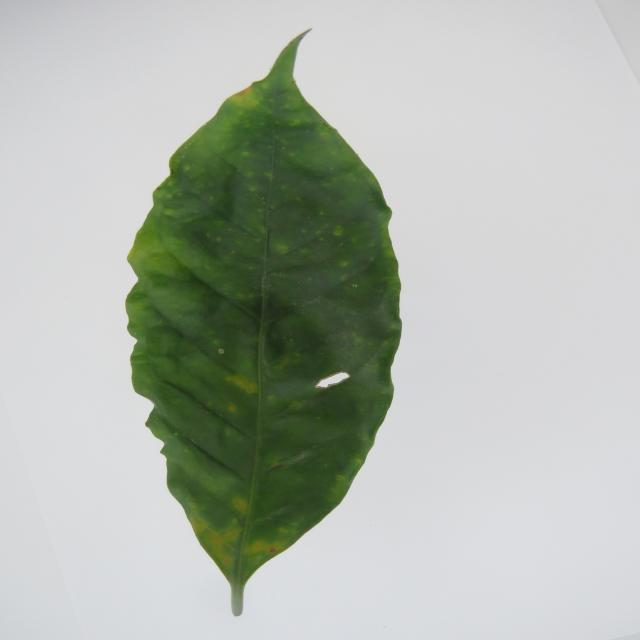DeficienciaNutricional-Magnesio: (127, 34, 402, 615)
